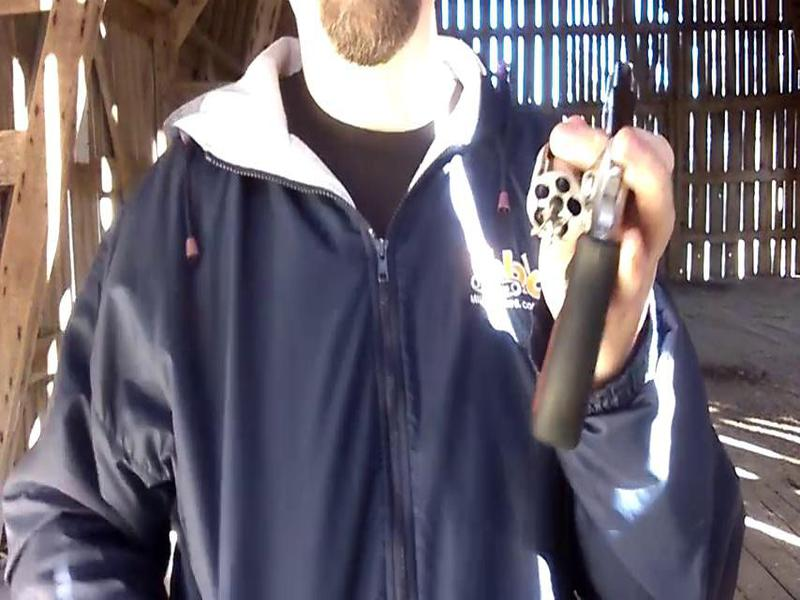Revolver: (507, 31, 690, 453)
